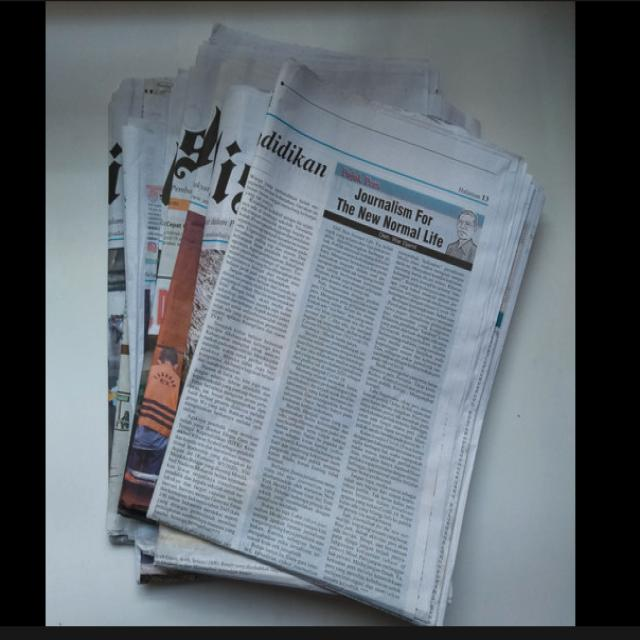Koran: (103, 27, 544, 625)
